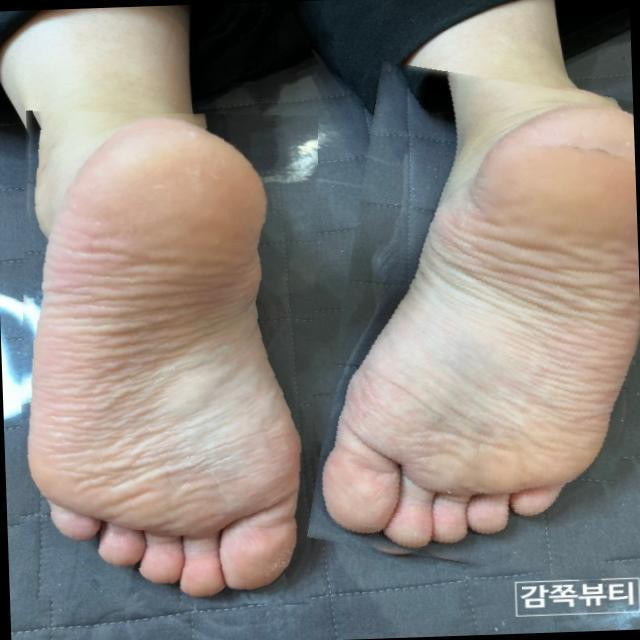No_Shoes: (326, 104, 640, 556), (29, 109, 308, 596)
